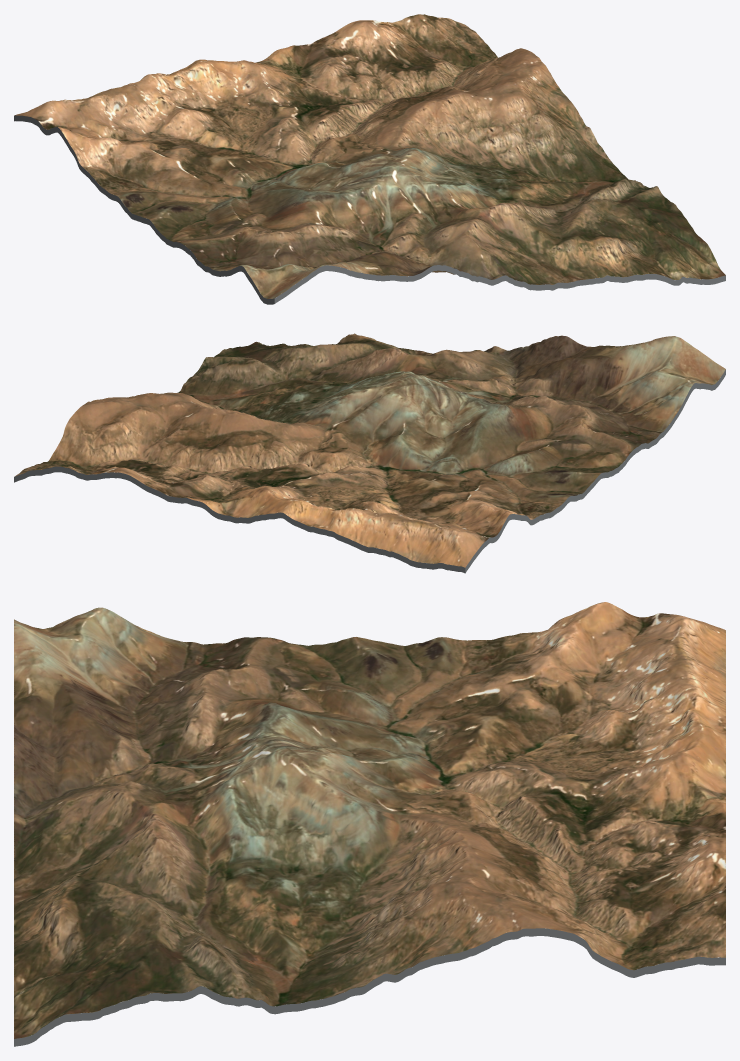
3 renders of one model, top to bottom at view 1: azimuth 30°, elevation 25°; view 2: azimuth 150°, elevation 25°; view 3: azimuth 270°, elevation 25°, orthographic. The views are drawn at different scales.
Parts seen in each view (by area): view 1: terrain, skirt; view 2: terrain, skirt; view 3: terrain, skirt.
Part boxes in pixels (box(x1,y1,x2,y2)): terrain: box(14, 14, 725, 298); skirt: box(14, 115, 725, 304); terrain: box(14, 333, 725, 567); skirt: box(14, 369, 725, 573); terrain: box(14, 602, 725, 1038); skirt: box(14, 928, 725, 1046).
Bounding box in the file's own units: 7500 × 1807 × 7500.
Materials: 1 (1 with a texture image).
